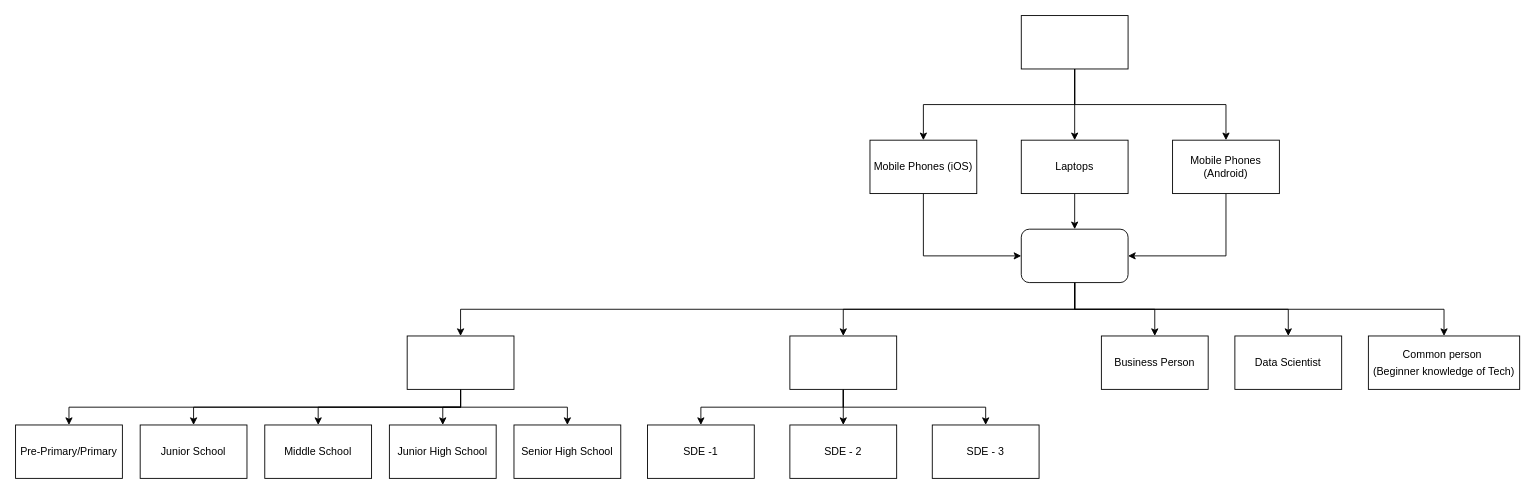
The diagram is 1535 pixels wide and 494 high, and some of its shapes have lost their labels. Each missing label, with the centre of its shape:
Main: (x=1074, y=42)
Professions: (x=1074, y=255)
Software Developer: (x=843, y=362)
Student: (x=460, y=362)
